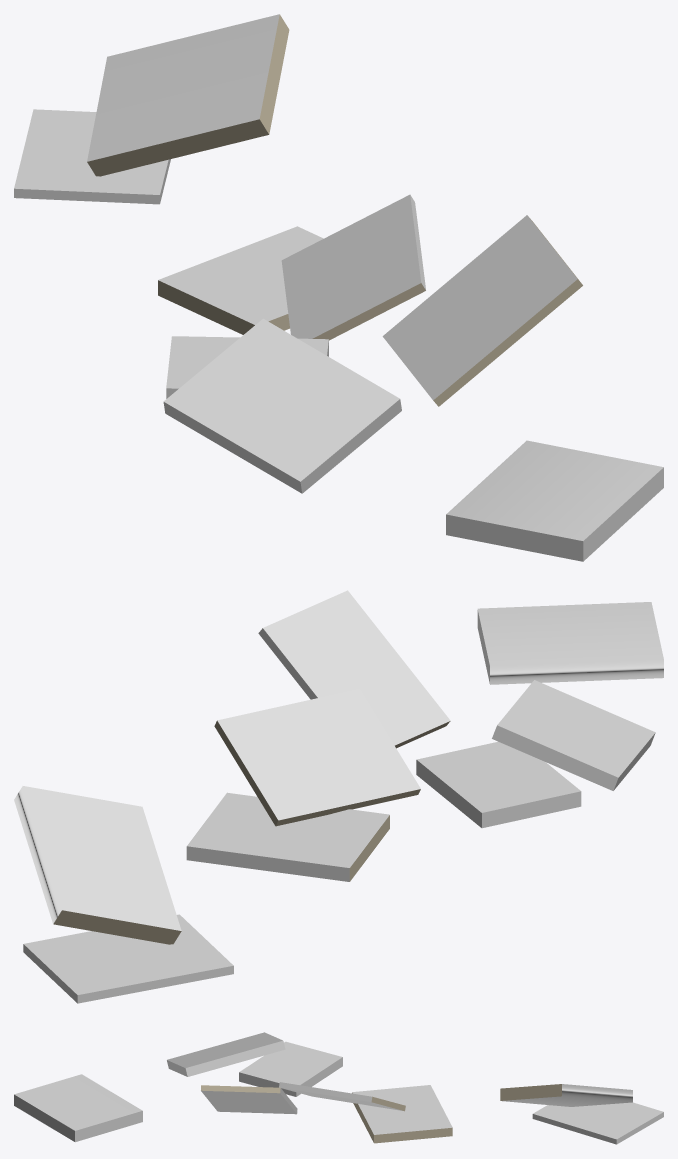
The model's file is SM_H_Government_Tide_Book_02G_ATLAS.fbx.
3 views of the same model, one above another, from view 1: azimuth 30°, elevation 25°; view 2: azimuth 150°, elevation 25°; view 3: azimuth 270°, elevation 25° (orthographic). The views are drawn at different scales.
Parts seen in each view (by area): view 1: SM_H_Government_Tide_Book_02G_ATLAS; view 2: SM_H_Government_Tide_Book_02G_ATLAS; view 3: SM_H_Government_Tide_Book_02G_ATLAS.
Boxes of the visible parts, x1,y1,x2,y2 form: SM_H_Government_Tide_Book_02G_ATLAS: (14, 14, 663, 561); SM_H_Government_Tide_Book_02G_ATLAS: (14, 590, 663, 1003); SM_H_Government_Tide_Book_02G_ATLAS: (14, 1032, 663, 1144).
Bounding box in the file's own units: 84.21 × 218 × 27.58.
